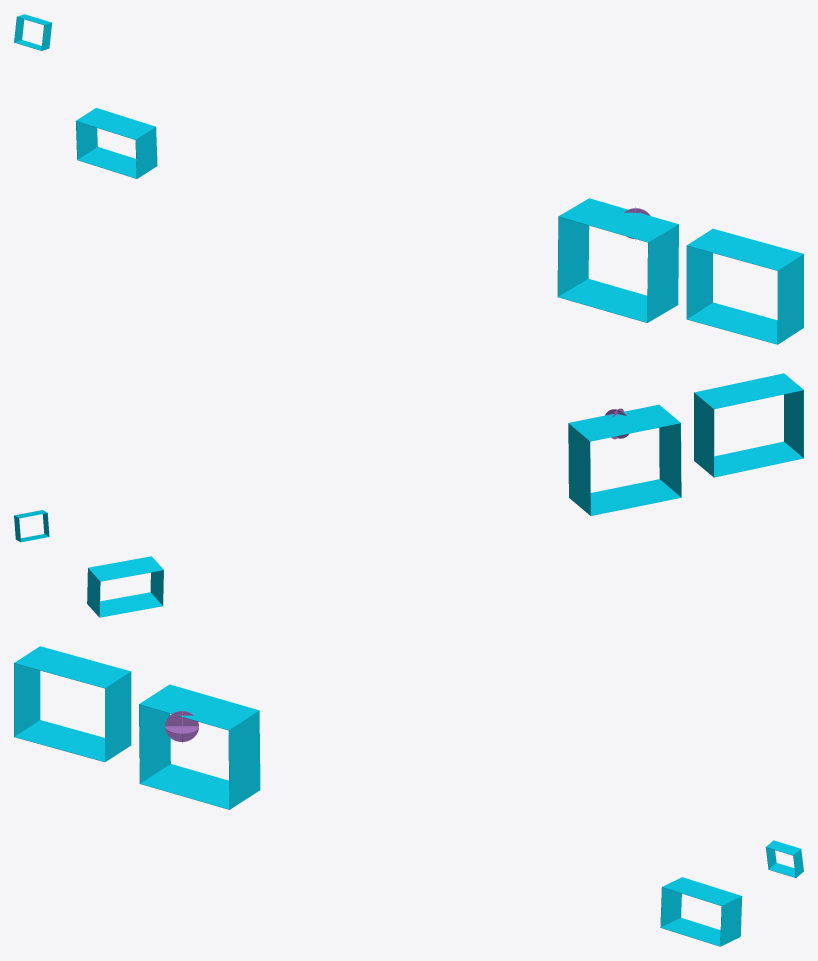
File: tile_283.glb
3 views of the same model, one above another, from view 1: azimuth 90°, elevation 25°; view 2: azimuth 150°, elevation 25°; view 3: azimuth 270°, elevation 25° (orthographic). The views are drawn at different scales.
Size of the model in its own units: 1.62 by 0.3753 by 2.32.
